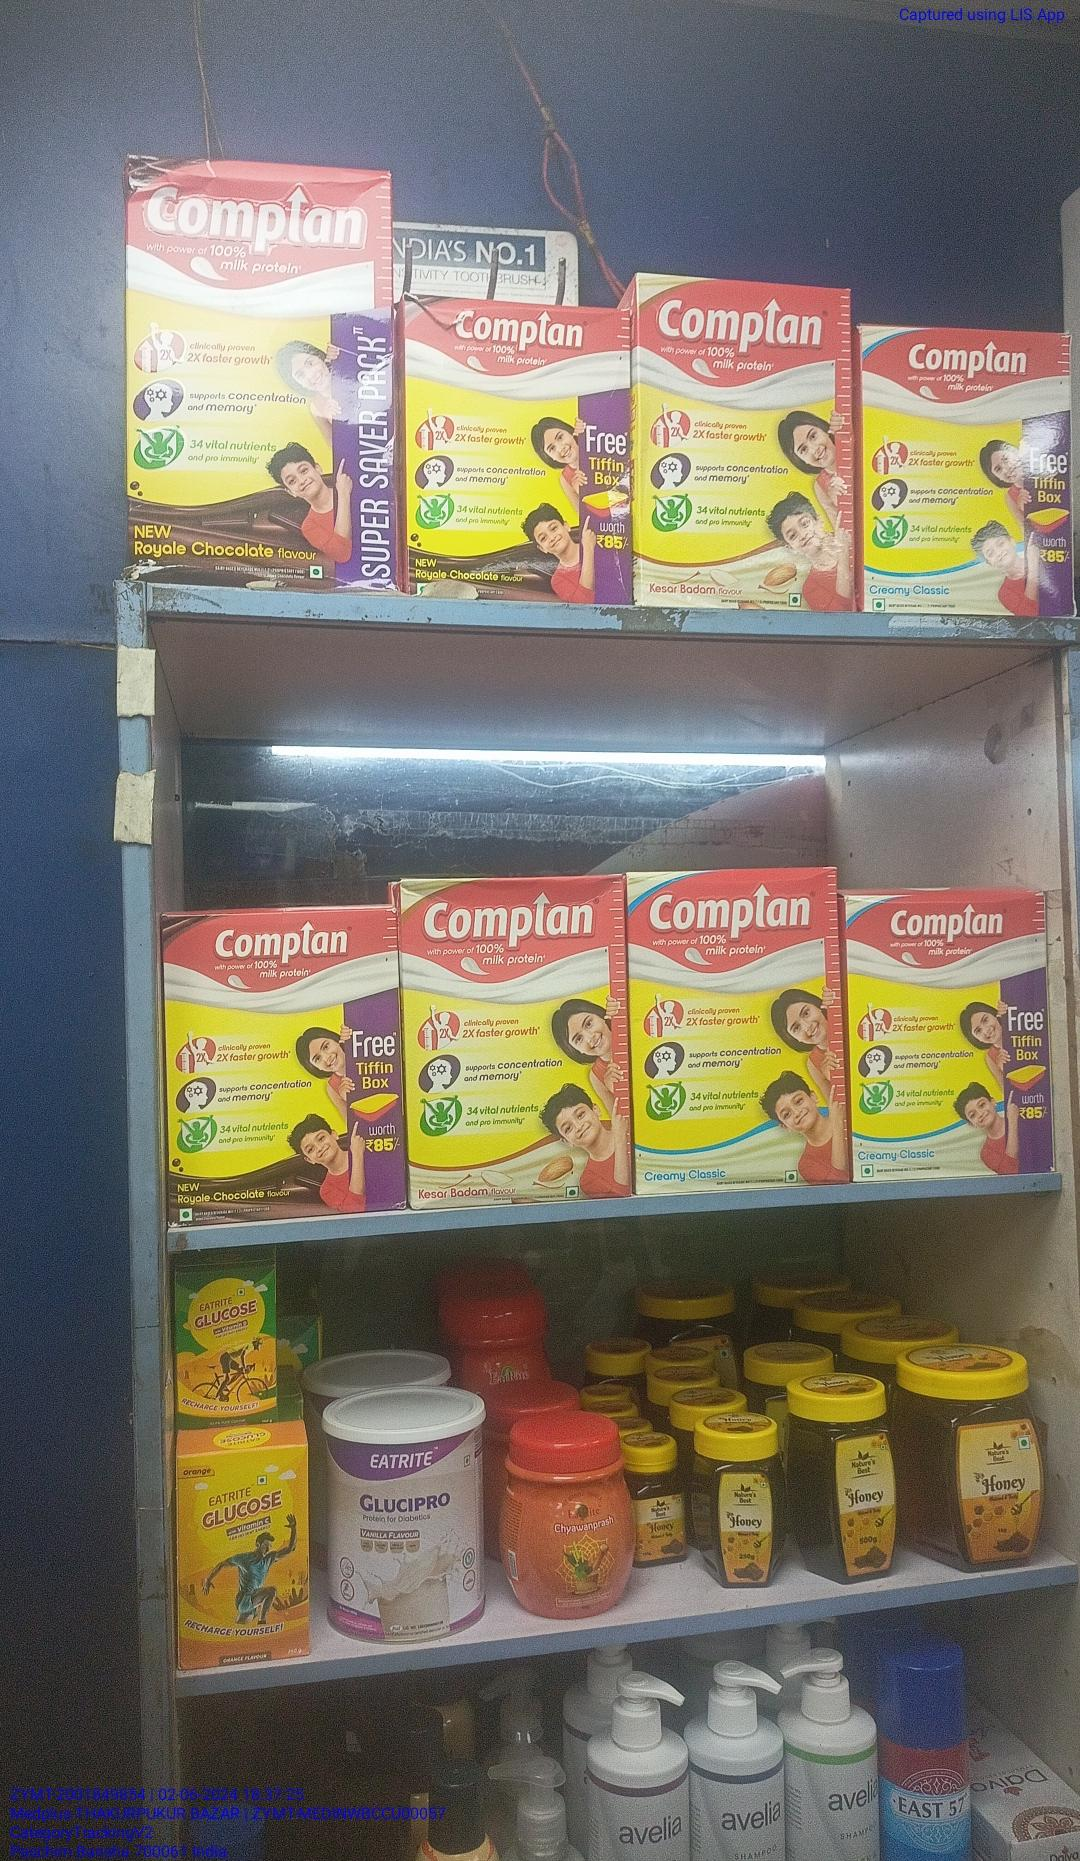COMPLAN_CREAMY_CLASSIC_500_G_PACK: (629, 866, 847, 1186), (861, 323, 1075, 616), (852, 892, 1053, 1177)
